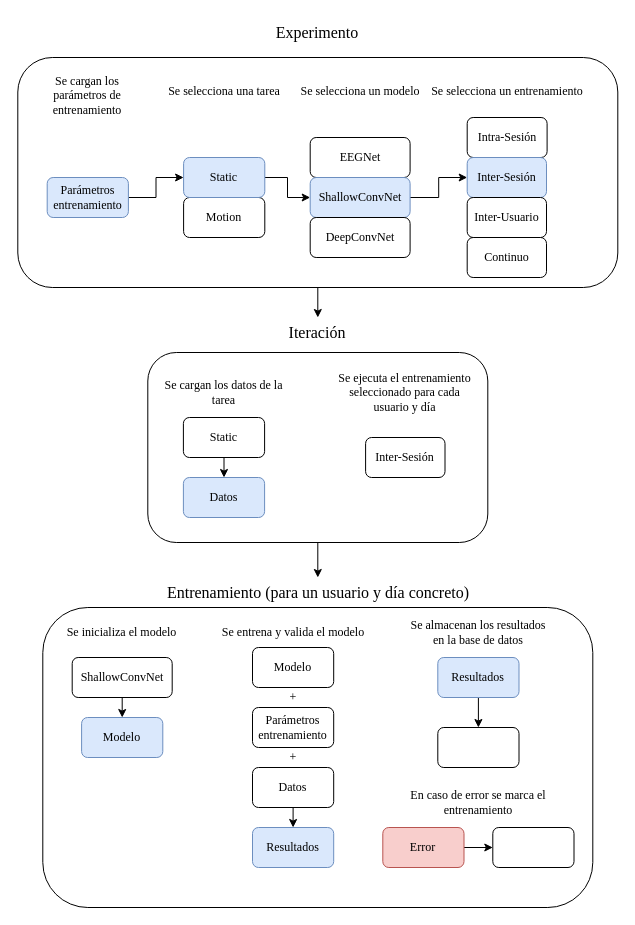
The diagram is 635 pixels wide and 925 high, and some of its shapes have lost their labels. Here are the shapes that lost their labels. From the top down, the centre of each, then its label:
At [478,747]: "DuckDB".
At [533,847]: "Json".
